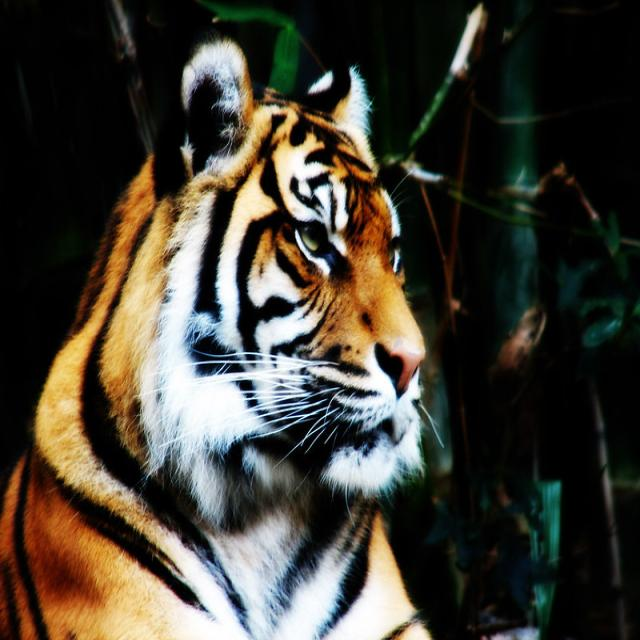Tiger: (0, 36, 429, 639)
